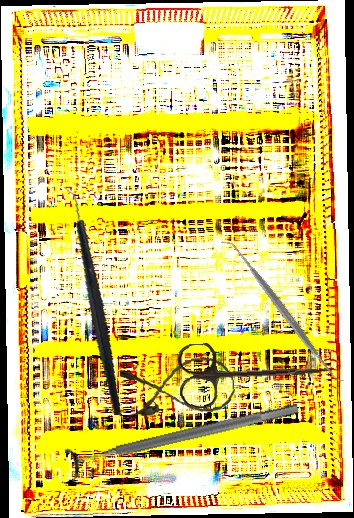Cannula: (119, 354, 237, 421)
Chopper: (24, 186, 157, 416)
Fixation Ring: (63, 390, 303, 484)
Iris Scissors: (176, 334, 333, 410)
Spatula Surgical: (219, 231, 347, 391)
